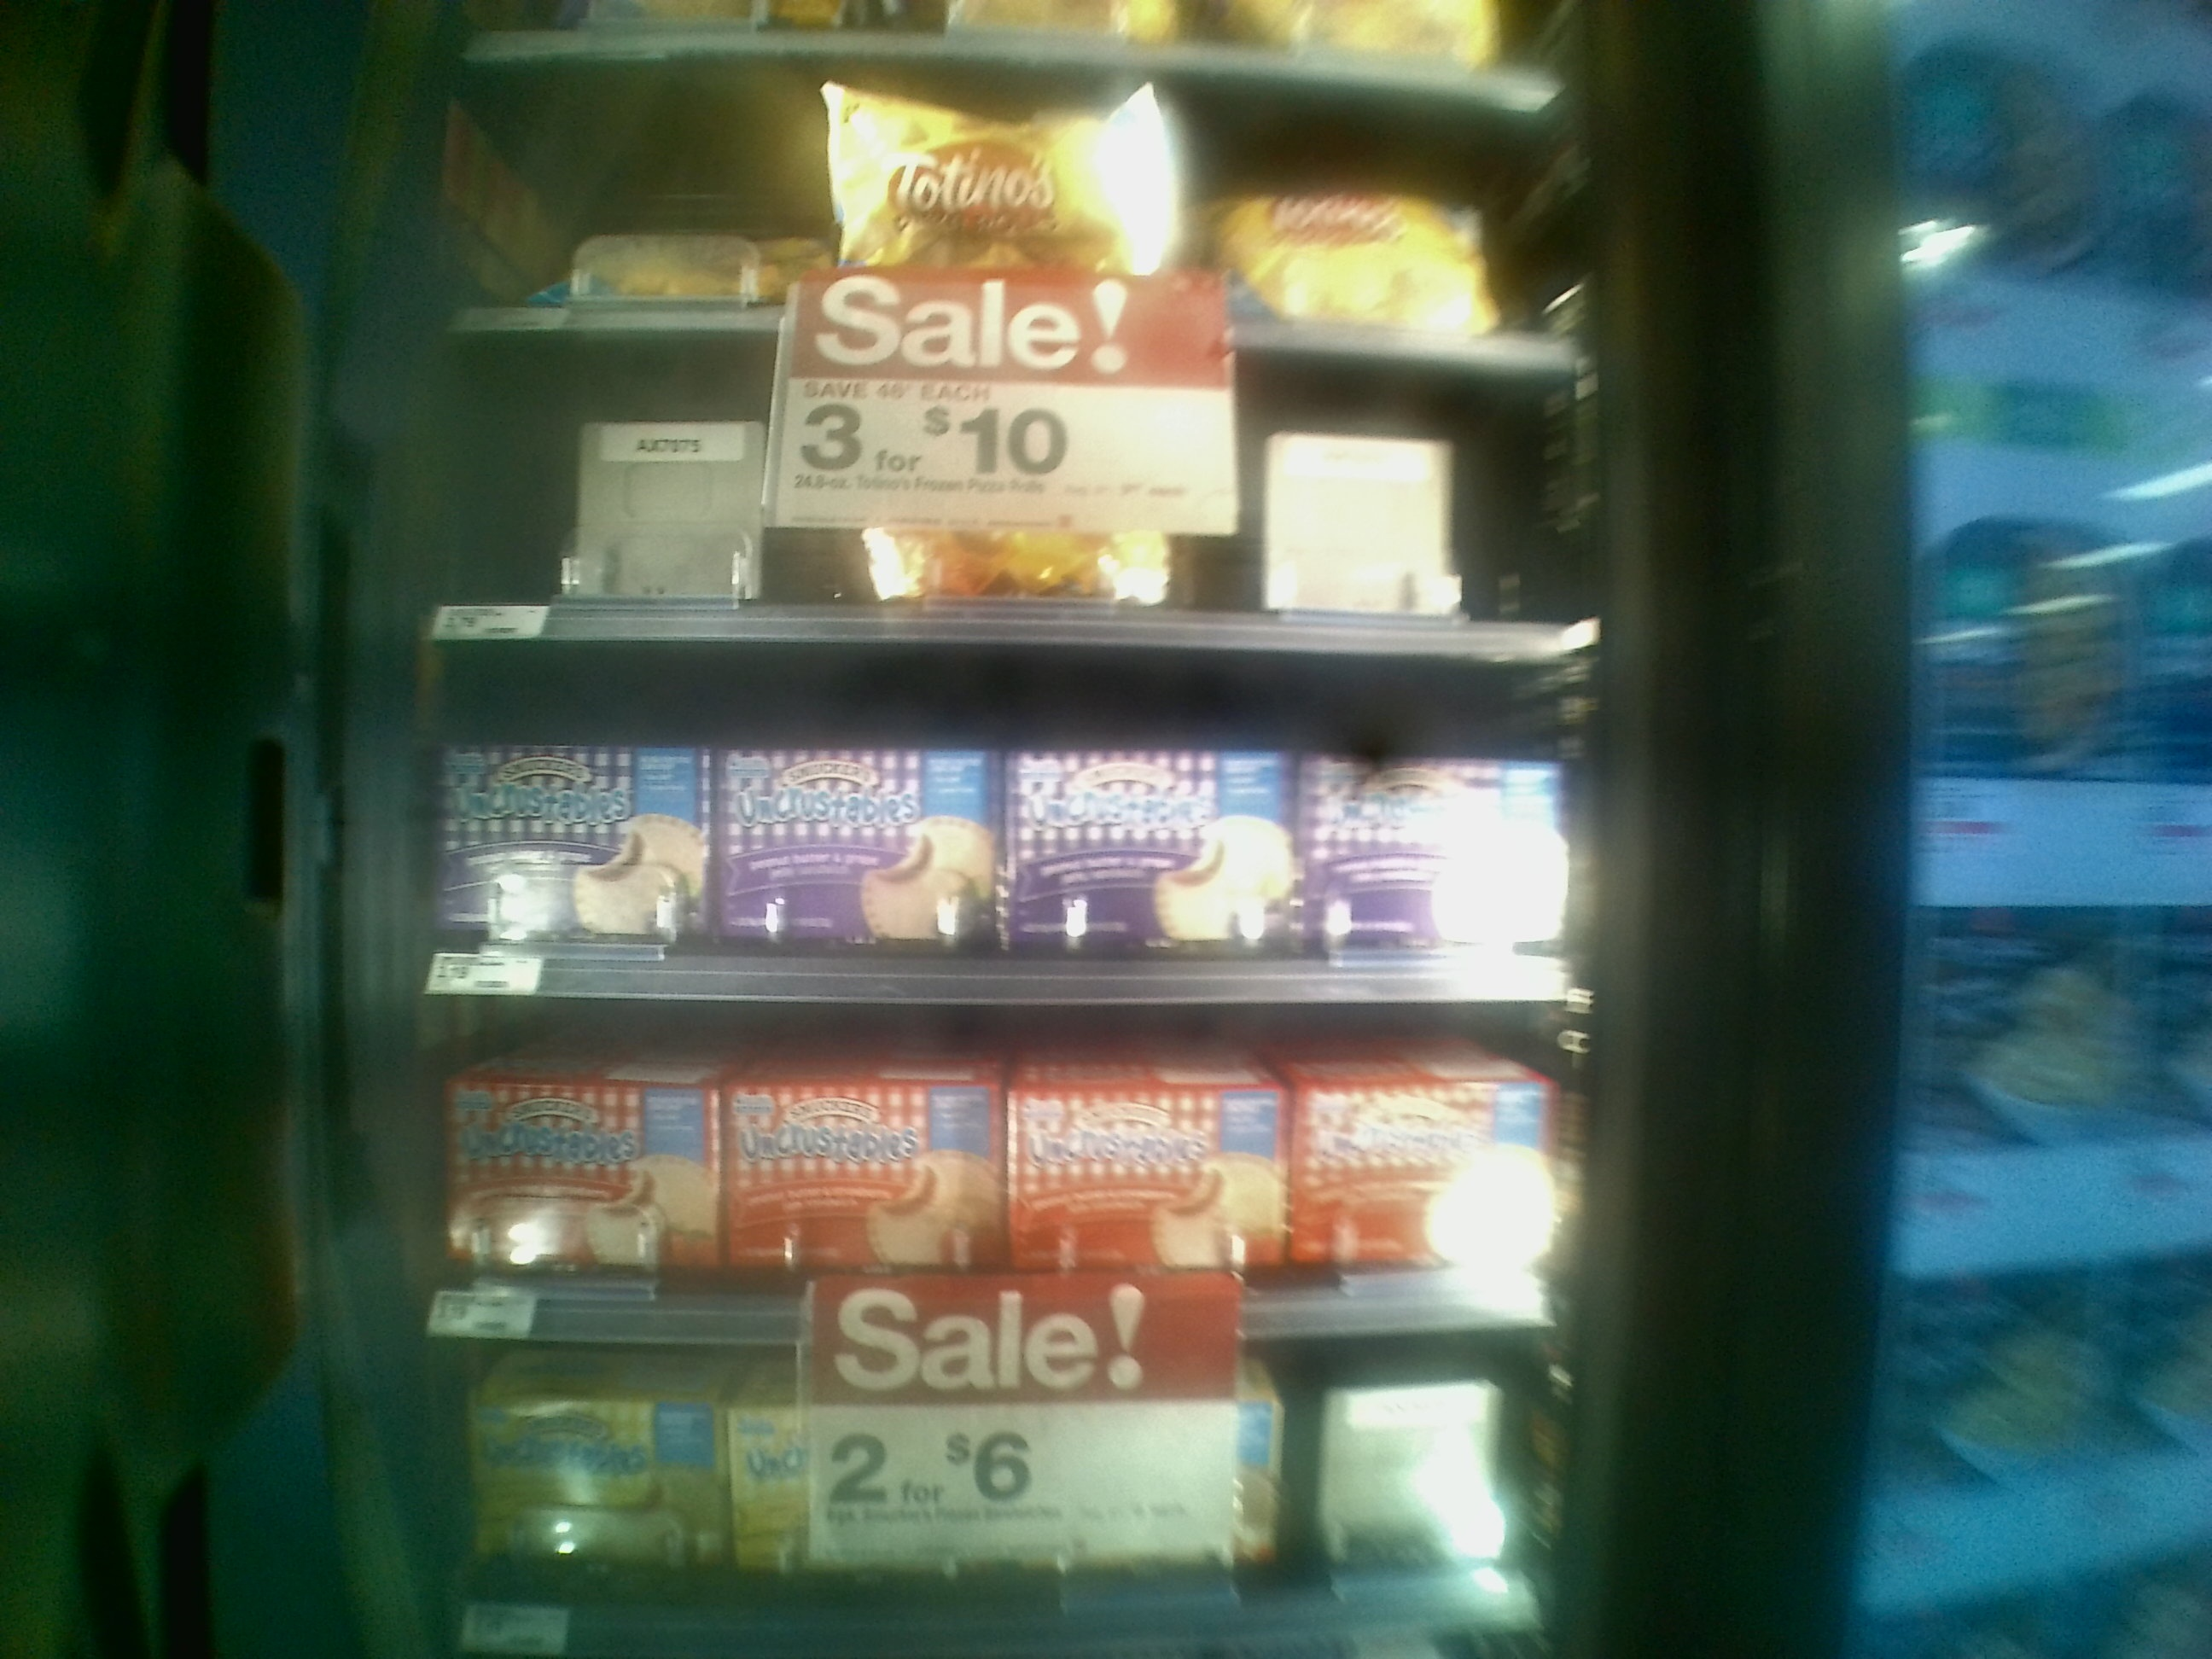shelf: (392, 638, 1602, 1009), (383, 999, 1578, 1335), (397, 329, 1583, 657)
